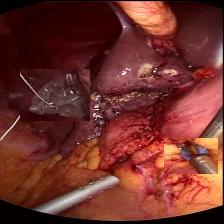Bipolar: (164, 136, 218, 173)
Irrigator: (61, 171, 124, 203)
Specimen Bag: (20, 68, 90, 120)
